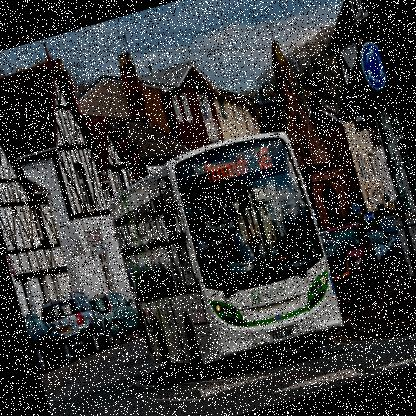Car: (36, 282, 118, 364), (327, 218, 385, 299), (22, 304, 78, 379), (321, 233, 368, 312), (88, 285, 145, 350), (364, 219, 410, 278), (378, 211, 412, 267)
